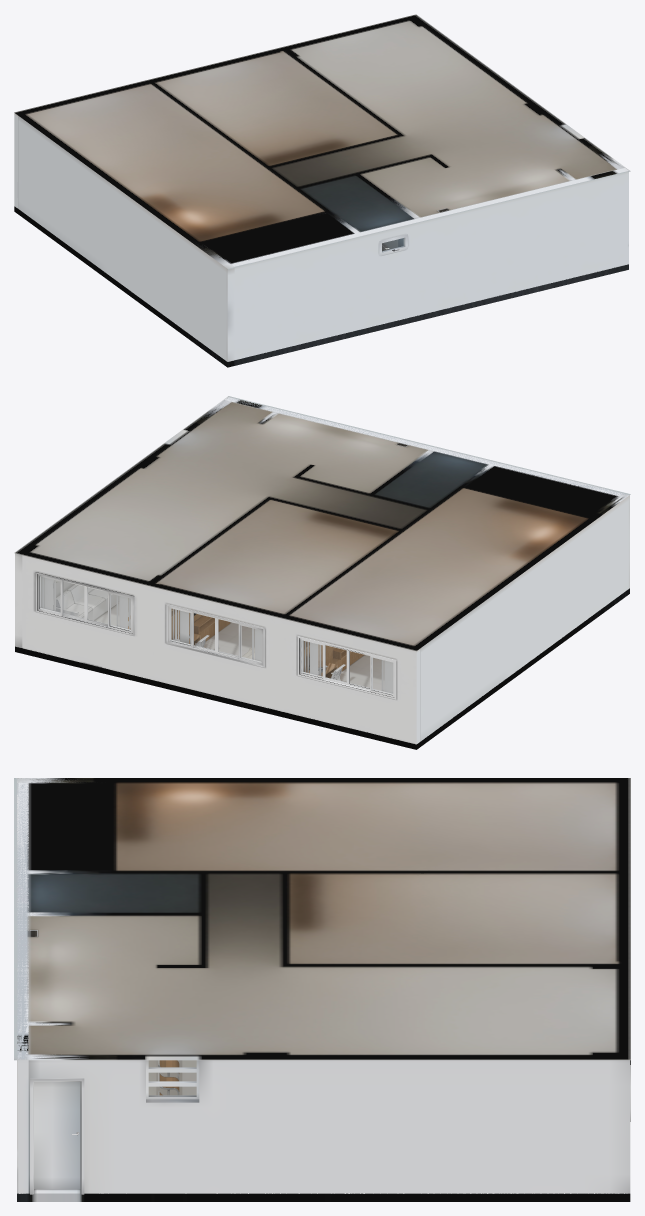
The model's file is pnr.glb.
3 renders of one model, top to bottom at view 1: azimuth 30°, elevation 25°; view 2: azimuth 150°, elevation 25°; view 3: azimuth 270°, elevation 25°, orthographic. The views are drawn at different scales.
Visible parts, largest first — view 1: Teto, G5, G1, Arq_Piso, G4, G3; view 2: Teto, G4, G1, Arq_Piso, G6, G2, G5; view 3: Teto, G6, Arq_Piso, G5.
Boxes of the visible parts, x1,y1,x2,y2 form: Teto: [14, 14, 630, 269]; G5: [231, 168, 628, 359]; G1: [18, 116, 234, 361]; Arq_Piso: [14, 206, 628, 367]; G4: [14, 113, 419, 251]; G3: [327, 208, 407, 255]; Teto: [14, 396, 630, 651]; G4: [22, 450, 433, 744]; G1: [381, 493, 629, 740]; Arq_Piso: [15, 588, 629, 749]; G6: [15, 400, 277, 647]; G2: [297, 636, 396, 699]; G5: [171, 397, 622, 647]; Teto: [14, 778, 630, 1060]; G6: [28, 1022, 630, 1194]; Arq_Piso: [17, 1060, 630, 1201]; G5: [17, 783, 37, 1193].
Bounding box in the file's own units: 11.27 × 2.65 × 10.41.
Materials: 143 (109 with a texture image).
